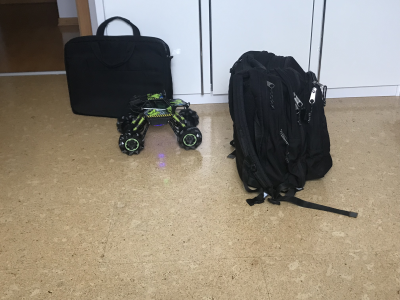remote control car: (112, 91, 205, 157)
